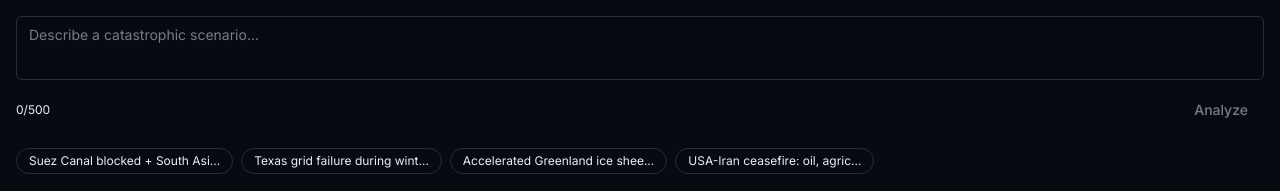
Test: ScenarioInput › enables Analyze button when input has text
Type "Test scenario" into the text box with placeholder "Describe a catastrophic scenario...".
click(640, 48); type("Test scenario")  # box [16,16,1264,80]
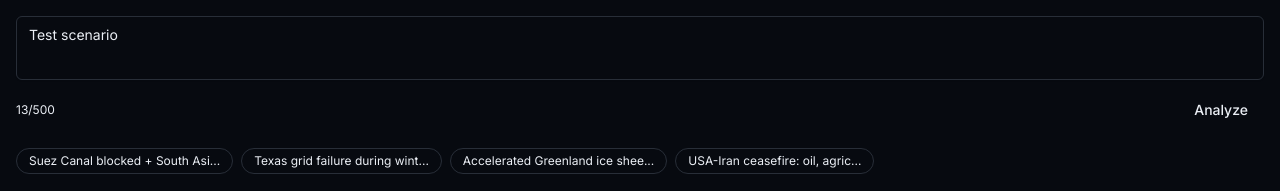
Result: the button "Analyze" is enabled at [1178,92,1264,128]
